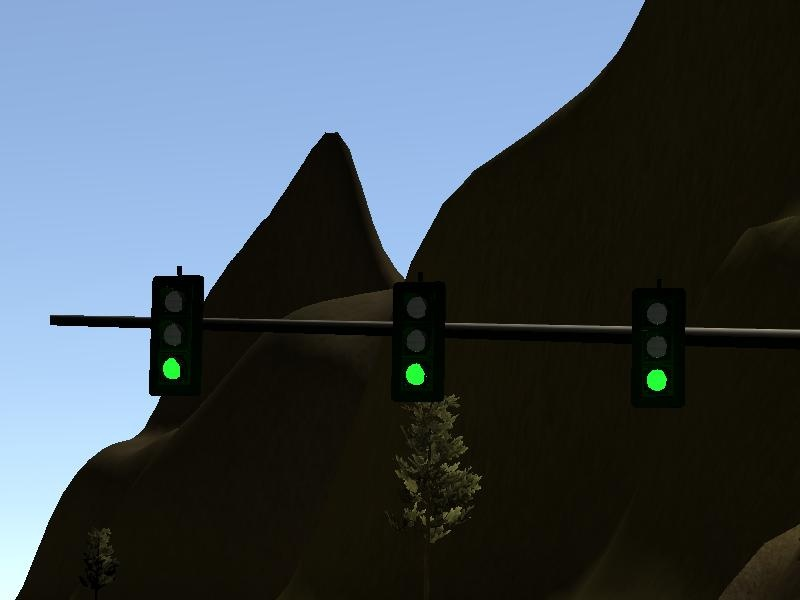green: (142, 266, 209, 399), (628, 281, 699, 396), (391, 277, 443, 407)
